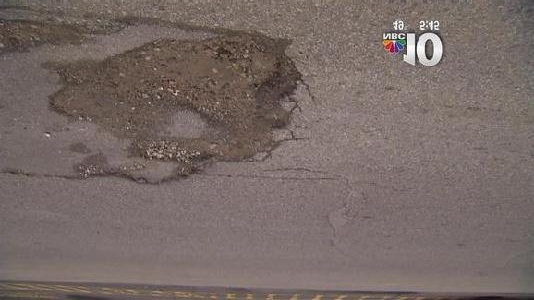pothole: (40, 33, 299, 184)
